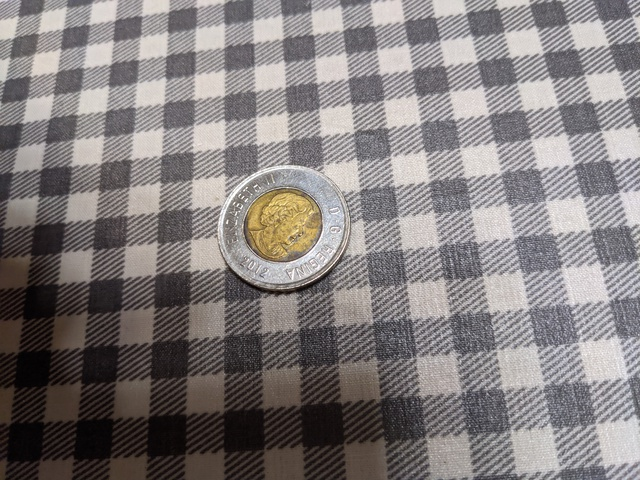twonie: (211, 159, 352, 292)
